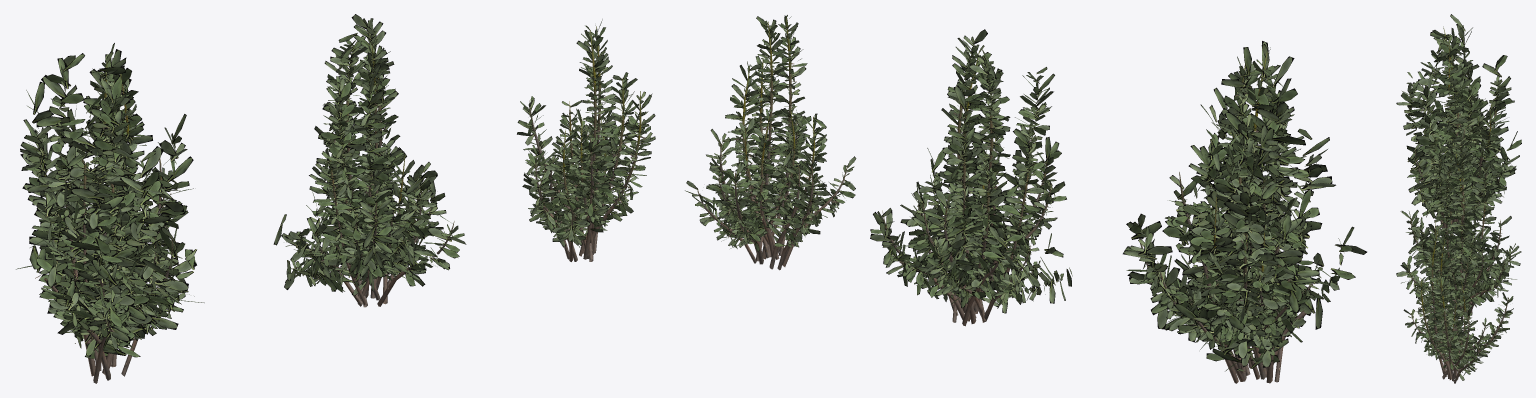
The model's file is othonna_cerarioides.glb.
3 views of the same model, side by side, from view 1: azimuth 30°, elevation 25°; view 2: azimuth 150°, elevation 25°; view 3: azimuth 270°, elevation 25° (orthographic). The views are drawn at different scales.
Visible parts, largest first — view 1: othonna_cerarioides_a, othonna_cerarioides_b, othonna_cerarioides_c; view 2: othonna_cerarioides_a, othonna_cerarioides_b, othonna_cerarioides_c; view 3: othonna_cerarioides_a, othonna_cerarioides_b, othonna_cerarioides_c.
Part boxes in pixels (x1,y1,x2,y2): othonna_cerarioides_a: [16, 43, 204, 383]; othonna_cerarioides_b: [273, 14, 466, 307]; othonna_cerarioides_c: [517, 19, 655, 261]; othonna_cerarioides_a: [1123, 41, 1366, 383]; othonna_cerarioides_b: [870, 29, 1072, 326]; othonna_cerarioides_c: [685, 15, 856, 270]; othonna_cerarioides_a: [1396, 14, 1521, 235]; othonna_cerarioides_b: [1396, 129, 1521, 320]; othonna_cerarioides_c: [1403, 225, 1513, 383].
Size of the model in its own units: 3.86 by 1.96 by 1.07.
2 materials, 2 textured.
